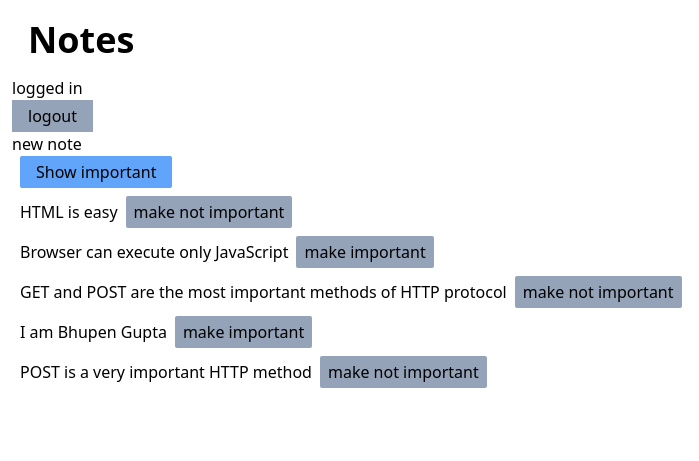
Test: Note app › when logged in › a new note can be created
Click the button "new note" at coordinates (47, 144), box x1=12 y1=132 x2=82 y2=156
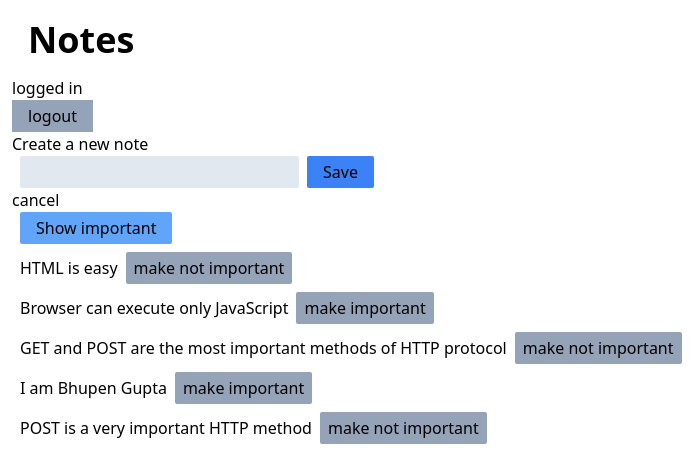
Type "a note created by cypress" into the field at coordinates (160, 172), box x1=20 y1=156 x2=299 y2=188
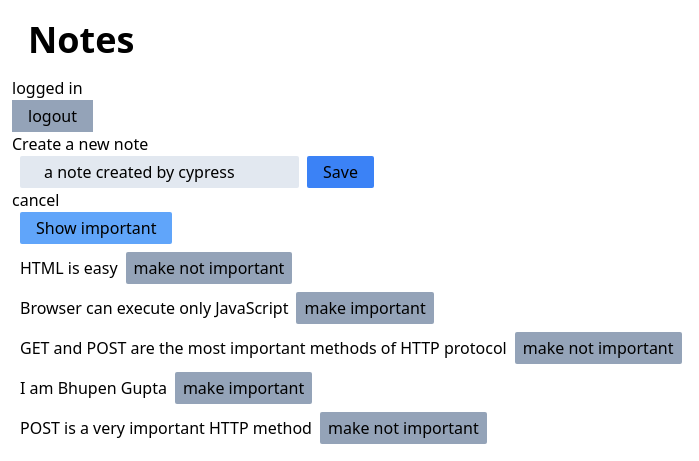
Click the button "Save" at coordinates (341, 172), box x1=307 y1=156 x2=374 y2=188
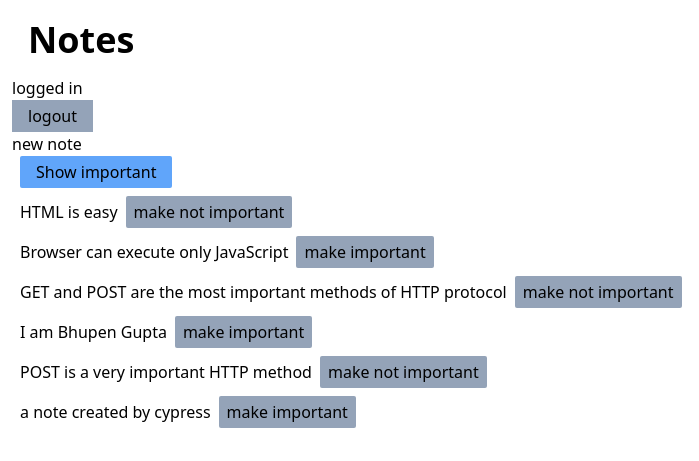
Now the text "a note created by cypress" is shown, box x1=20 y1=401 x2=211 y2=423
